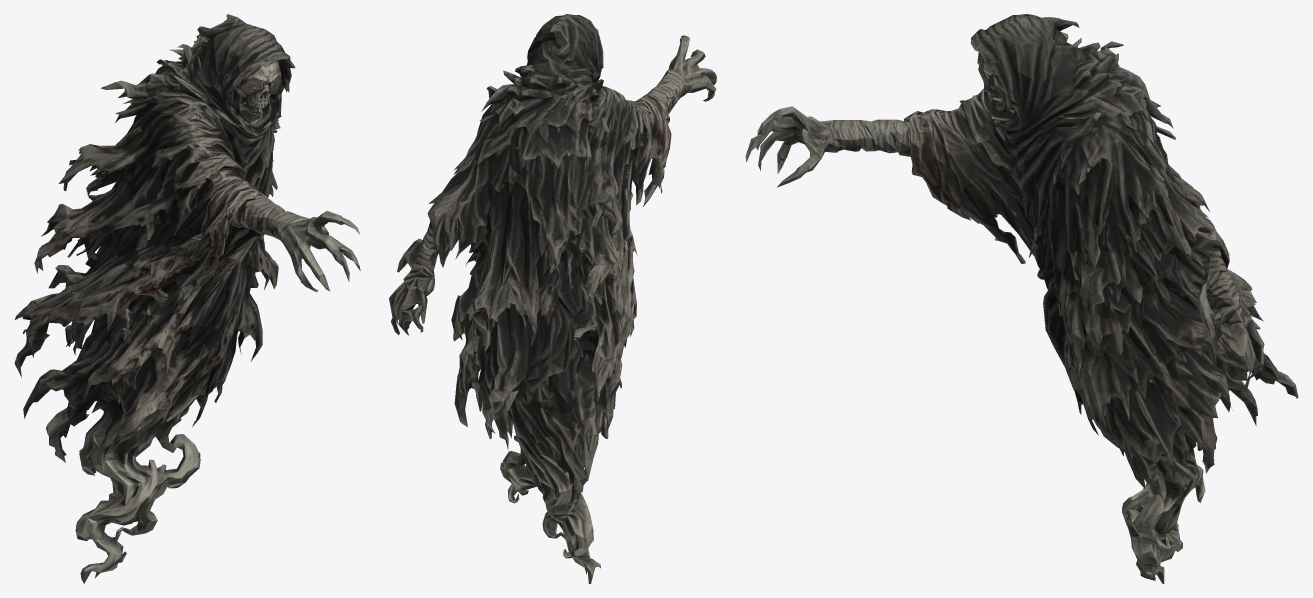
File: wraith.glb
3 views of the same model, side by side, from view 1: azimuth 30°, elevation 25°; view 2: azimuth 150°, elevation 25°; view 3: azimuth 270°, elevation 25° (orthographic). The views are drawn at different scales.
Visible parts, largest first — view 1: Mesh_0; view 2: Mesh_0; view 3: Mesh_0.
Part boxes in pixels (<box>): Mesh_0: <box>14,14,360,583</box>; Mesh_0: <box>389,14,716,583</box>; Mesh_0: <box>745,14,1298,583</box>.
Bounding box in the file's own units: 0.841 × 1.9 × 1.55.
Materials: 1 (1 with a texture image).
